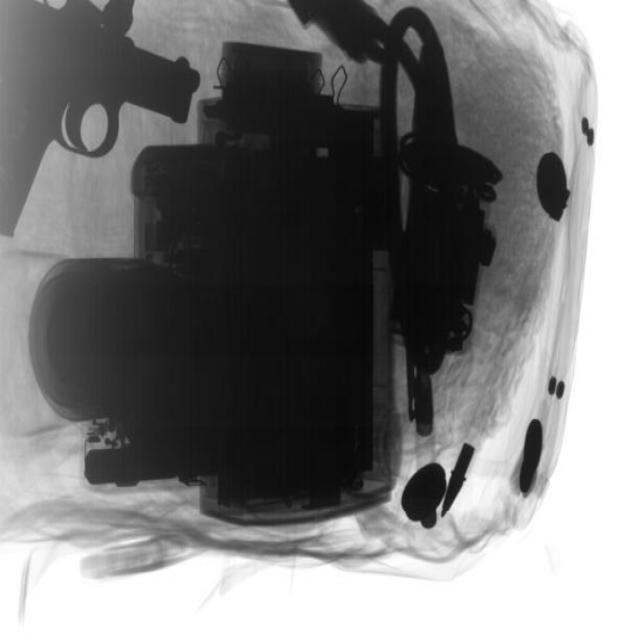GUN: (12, 5, 199, 265)
